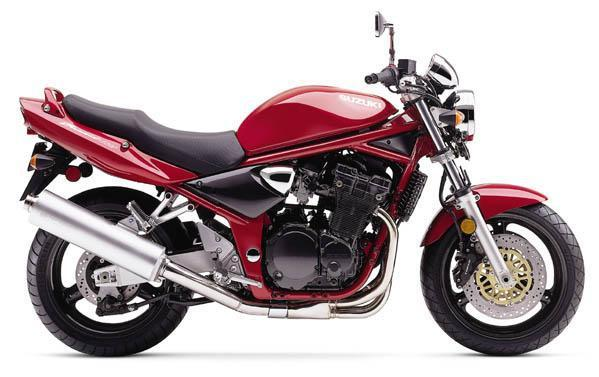motorcycle: (1, 7, 599, 363)
